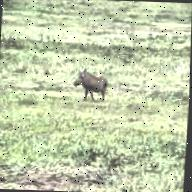boar: (70, 65, 117, 105)
